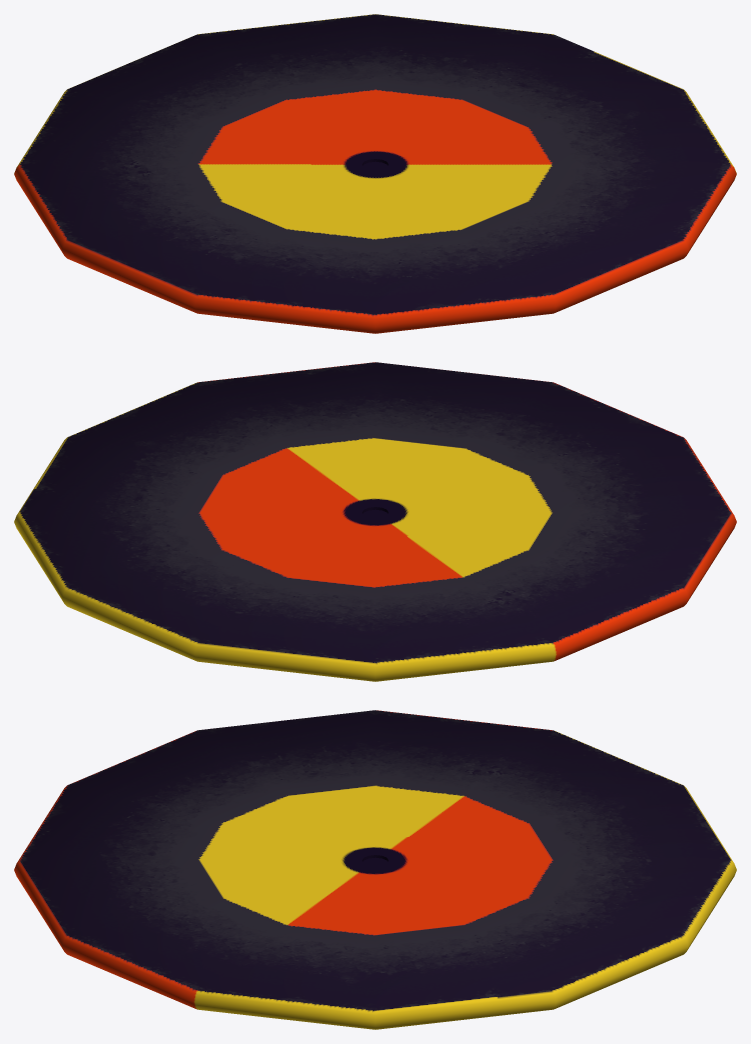
Rendered from Disco_Rug.fbx.
The picture shows the model from 3 angles, top to bottom: view 1: azimuth 30°, elevation 25°; view 2: azimuth 150°, elevation 25°; view 3: azimuth 270°, elevation 25°; orthographic projection.
Visible parts, largest first — view 1: Circle; view 2: Circle; view 3: Circle.
Part boxes in pixels (x1,y1,x2,y2): Circle: (14, 14, 736, 333); Circle: (14, 362, 736, 681); Circle: (14, 710, 736, 1029).
Bounding box in the file's own units: 280 × 8 × 280.
Materials: 1 (1 with a texture image).
